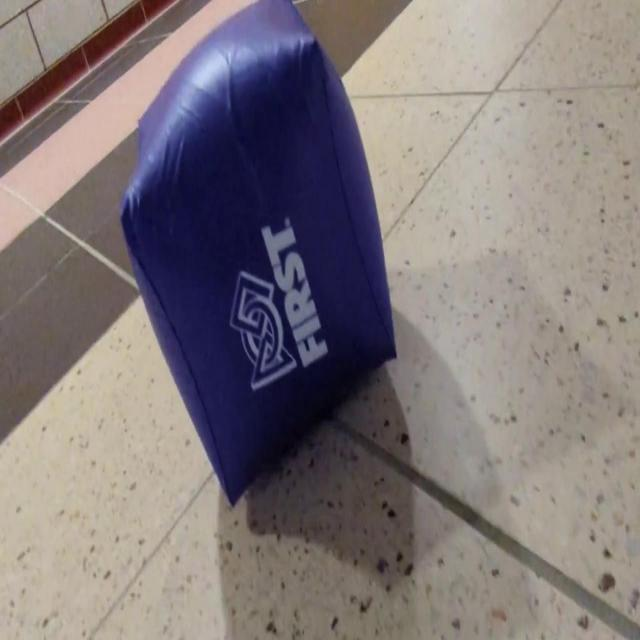frc_cube: (119, 0, 399, 505)
